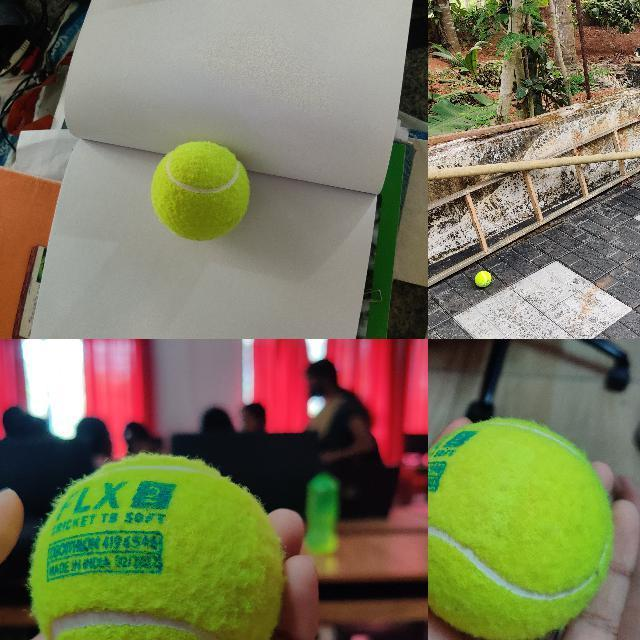tennis-ball: (29, 455, 283, 639), (428, 416, 618, 639), (150, 141, 250, 242), (475, 271, 492, 287)
